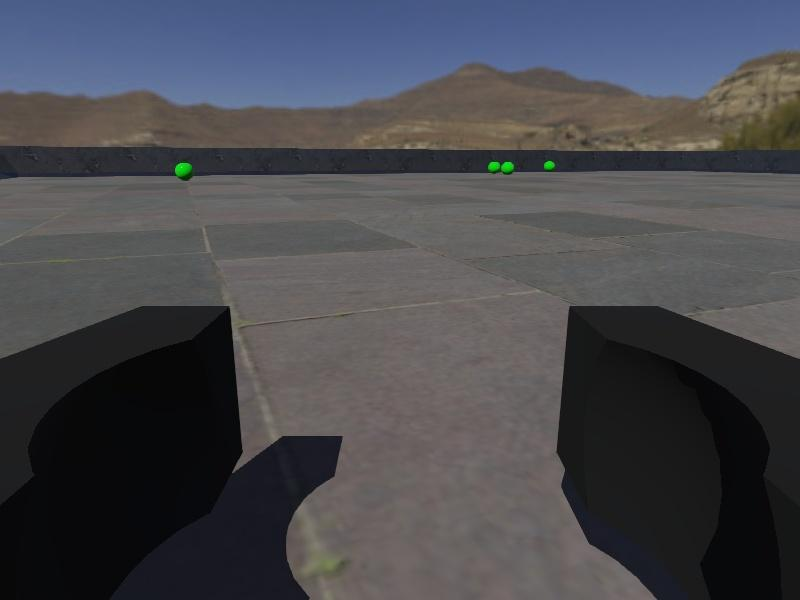green ball: (175, 160, 195, 181), (501, 159, 515, 175), (487, 158, 501, 174), (542, 159, 556, 172)
